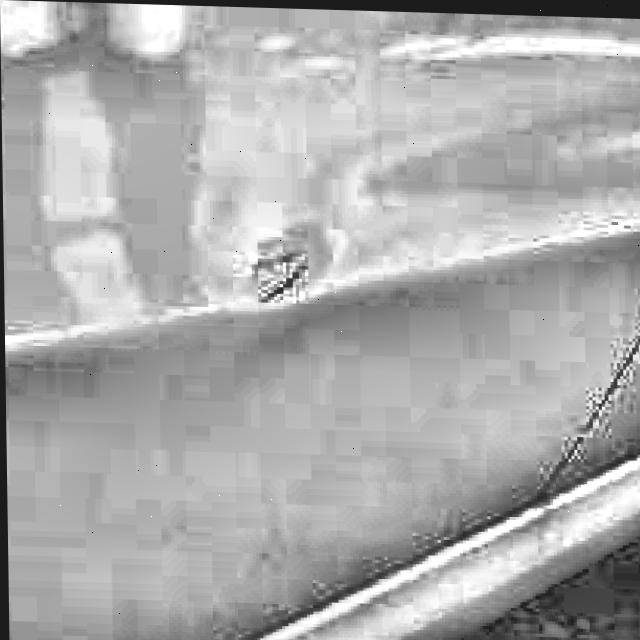door_dent: (234, 213, 348, 323)
